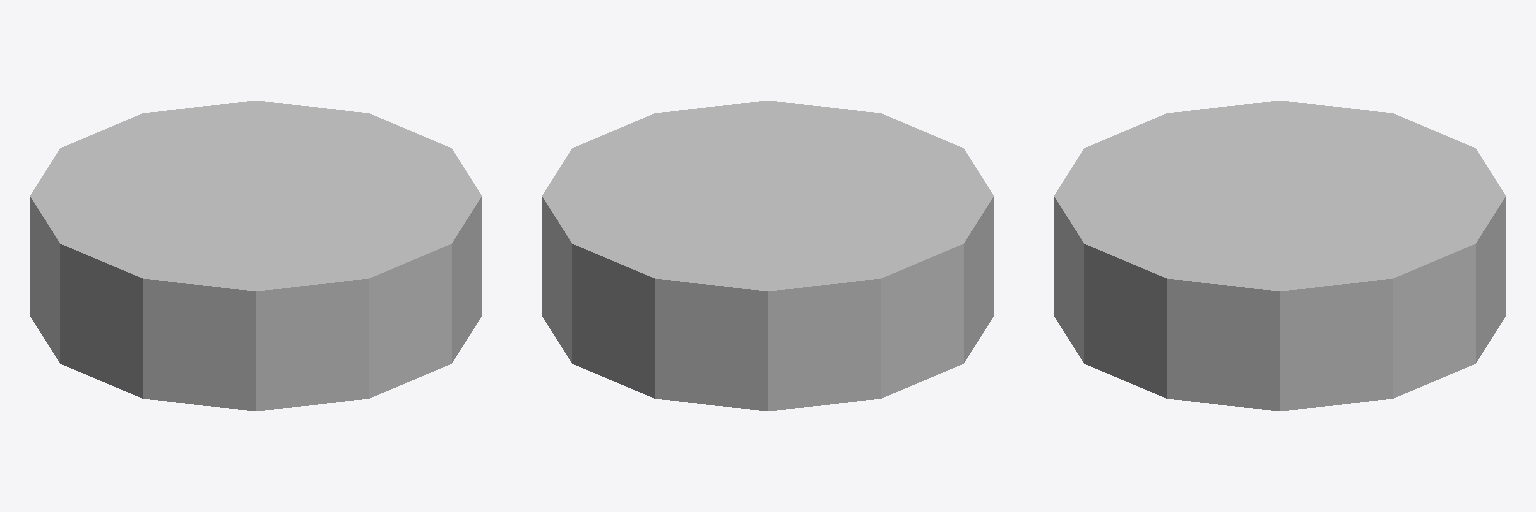
The model's file is basemusico.obj.
The picture shows the model from 3 angles: view 1: azimuth 30°, elevation 25°; view 2: azimuth 150°, elevation 25°; view 3: azimuth 270°, elevation 25°; orthographic projection.
Parts seen in each view (by area): view 1: Mesh9 Model; view 2: Mesh9 Model; view 3: Mesh9 Model.
Part boxes in pixels (left/top/right/bottom): Mesh9 Model: left=30, top=101, right=481, bottom=410; Mesh9 Model: left=542, top=101, right=993, bottom=410; Mesh9 Model: left=1054, top=101, right=1505, bottom=410.
Size of the model in its own units: 58 by 17 by 58.